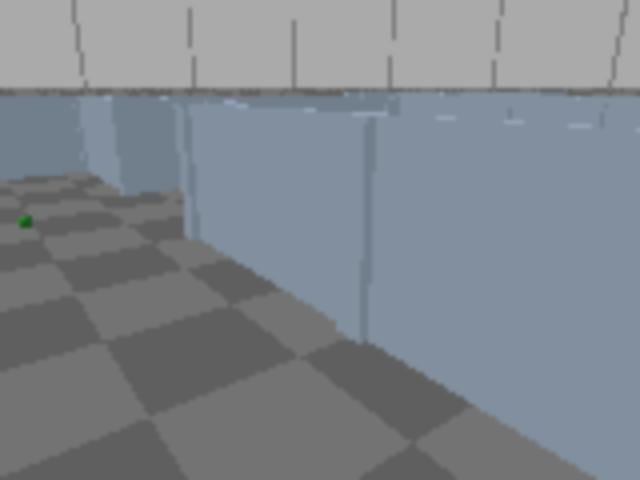puck: (16, 214, 34, 231)
